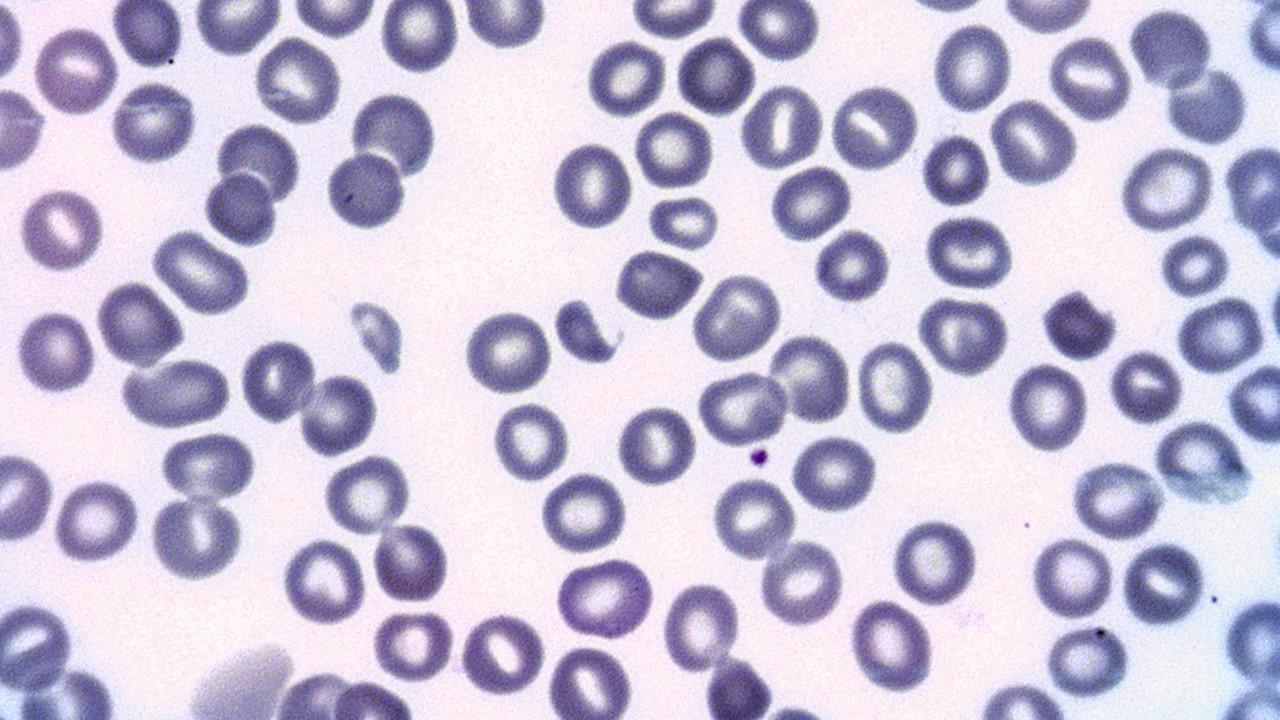Platelets: (321, 150, 408, 231), (1038, 286, 1118, 360), (345, 292, 409, 379), (548, 296, 622, 365), (462, 2, 548, 50), (1243, 0, 1279, 80), (744, 444, 772, 468)
RBC: (1117, 144, 1217, 235), (847, 594, 936, 696), (147, 230, 252, 316), (554, 556, 658, 641), (347, 87, 439, 182), (149, 493, 244, 585), (688, 270, 784, 361), (460, 304, 556, 395), (890, 512, 980, 608), (828, 80, 920, 172), (1004, 359, 1090, 457), (16, 184, 107, 275), (280, 534, 368, 628), (118, 358, 234, 429), (52, 476, 141, 568), (251, 36, 343, 125), (760, 536, 846, 630), (320, 452, 414, 538), (854, 337, 934, 438), (32, 23, 117, 118), (768, 330, 852, 426), (1151, 420, 1249, 502), (660, 577, 742, 675), (108, 78, 197, 168), (458, 608, 546, 699), (548, 139, 634, 232), (1069, 458, 1167, 539), (1119, 540, 1207, 630), (914, 295, 1010, 377), (922, 210, 1018, 292), (930, 20, 1012, 116), (214, 120, 302, 209), (1046, 33, 1134, 122), (990, 99, 1078, 188), (0, 598, 78, 696), (789, 432, 880, 516), (96, 280, 183, 367), (709, 474, 795, 562), (1029, 534, 1115, 622), (13, 305, 97, 395), (537, 471, 628, 554), (1173, 292, 1265, 374), (740, 81, 824, 170), (297, 368, 379, 459), (615, 401, 698, 490), (1041, 620, 1133, 700), (696, 368, 788, 447), (1126, 7, 1212, 91), (238, 334, 316, 426), (490, 398, 572, 485), (542, 643, 636, 718), (767, 163, 854, 244), (611, 248, 707, 321), (158, 431, 257, 501), (324, 149, 406, 233), (584, 37, 668, 119), (372, 518, 450, 606), (370, 606, 455, 685), (673, 35, 753, 118), (633, 110, 715, 190), (1037, 284, 1121, 360), (813, 228, 893, 306), (1220, 591, 1280, 694), (378, 0, 460, 75), (1107, 347, 1183, 426), (202, 170, 278, 248), (919, 129, 992, 209), (1223, 140, 1279, 238), (0, 448, 55, 546), (736, 1, 822, 63), (1156, 231, 1232, 300), (193, 0, 280, 59), (111, 0, 184, 70), (645, 193, 721, 251), (1226, 362, 1278, 444), (462, 2, 547, 51), (330, 677, 419, 719), (996, 0, 1099, 35), (628, 1, 718, 40), (290, 0, 377, 39), (1244, 2, 1280, 75), (0, 0, 26, 88)
WBC: (319, 0, 1280, 720), (0, 0, 594, 344), (344, 87, 440, 181), (149, 494, 247, 585), (1161, 65, 1251, 146), (323, 148, 407, 234), (0, 84, 50, 174), (1244, 1, 1280, 77)
